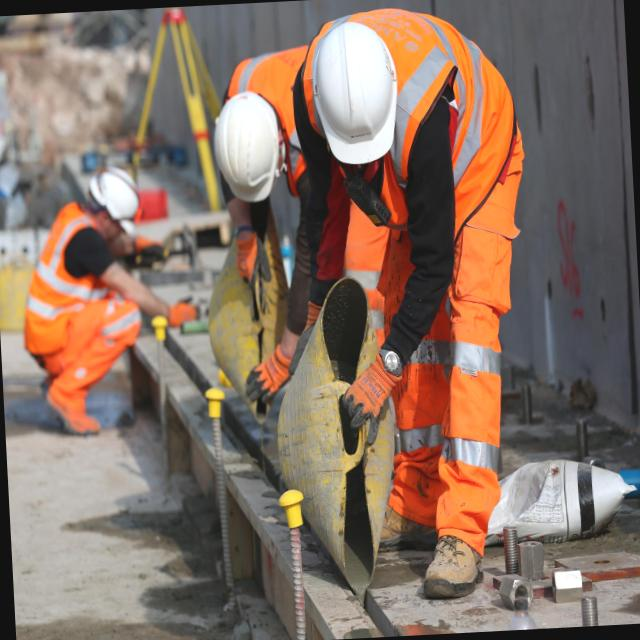helmet: (304, 8, 408, 180), (202, 83, 299, 225), (84, 160, 148, 227)
vest: (368, 4, 514, 294), (26, 200, 116, 350), (224, 33, 316, 162)
